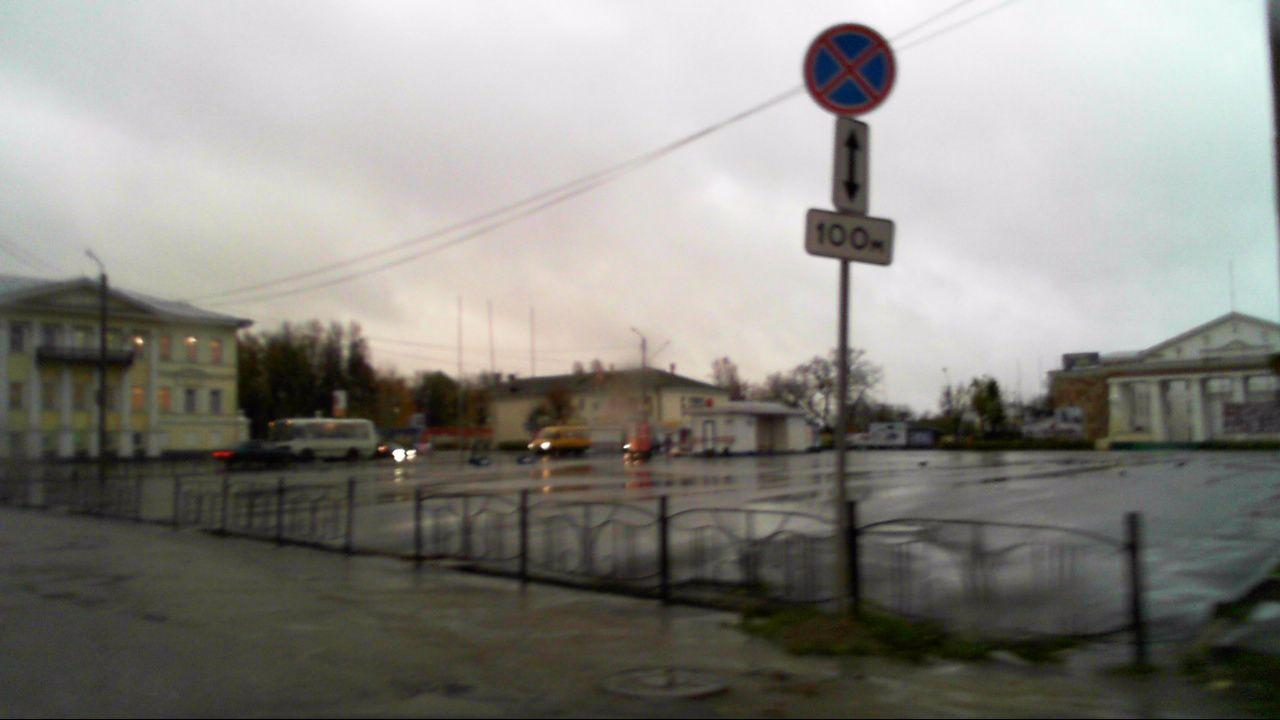3_27: (800, 17, 897, 111)
8_1_1: (802, 208, 895, 269)
8_2_4: (830, 117, 874, 211)
